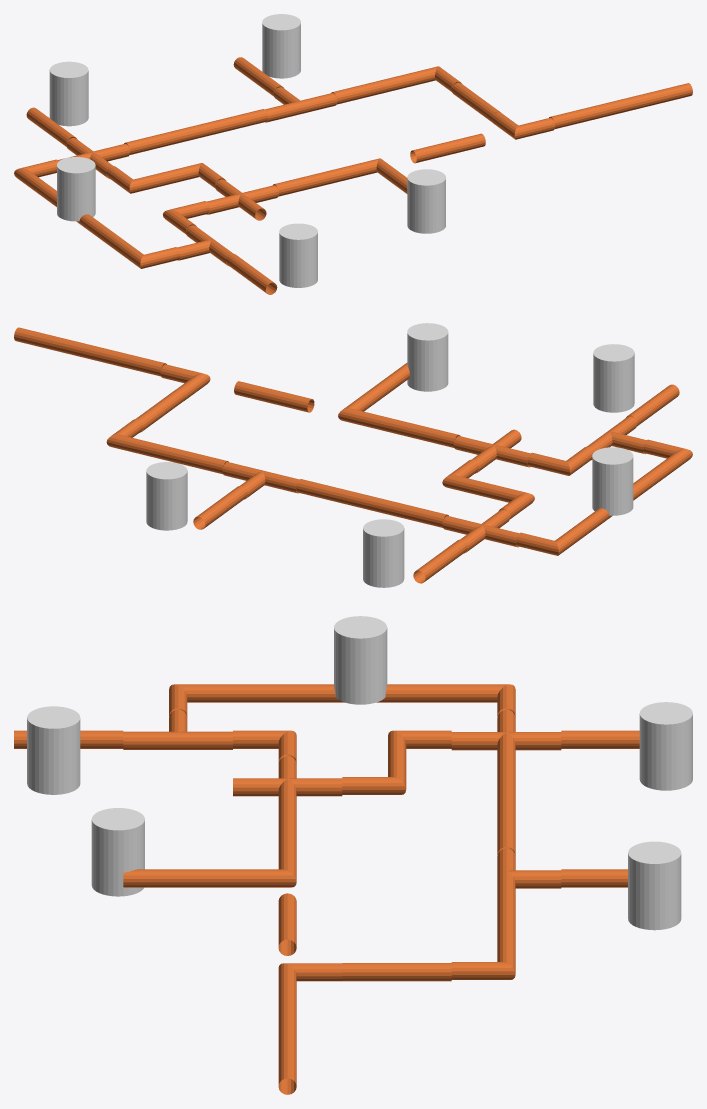
Rendered from Puzzle agua.fbx.
3 views of the same model, one above another, from view 1: azimuth 30°, elevation 25°; view 2: azimuth 150°, elevation 25°; view 3: azimuth 270°, elevation 25° (orthographic). The views are drawn at different scales.
Visible parts, largest first — view 1: WaterPilar.002, WaterPilar.001, WaterPilar.003, WaterPilar, WaterPilar.004, Cross Joint.003, Tee Joint.004, Elbow Joint.026, Cross Joint.004, Tee Joint.003, Elbow Joint.004, Elbow Joint.020 (+17 smaller); view 2: WaterPilar.003, WaterPilar.002, WaterPilar, WaterPilar.001, WaterPilar.004, Cross Joint.004, Cross Joint.003, Tee Joint.004, Elbow Joint.026, Elbow Joint.004, Elbow Joint.020, Elbow Joint.018 (+19 smaller); view 3: WaterPilar, WaterPilar.003, WaterPilar.002, WaterPilar.004, WaterPilar.001, Cross Joint.004, Cross Joint.003, Tee Joint.003, Elbow Joint.002, Elbow Joint.021, Elbow Joint.012, Tee Joint.004 (+19 smaller).
Boxes of the visible parts, x1=… form: WaterPilar.002: x1=49, y1=61, x2=88, y2=126; WaterPilar.001: x1=407, y1=169, x2=445, y2=233; WaterPilar.003: x1=279, y1=223, x2=317, y2=287; WaterPilar: x1=262, y1=14, x2=300, y2=78; WaterPilar.004: x1=57, y1=157, x2=95, y2=221; Cross Joint.003: x1=206, y1=179, x2=278, y2=220; Tee Joint.004: x1=265, y1=87, x2=336, y2=122; Elbow Joint.026: x1=410, y1=133, x2=485, y2=163; Cross Joint.004: x1=58, y1=138, x2=129, y2=178; Tee Joint.003: x1=177, y1=225, x2=232, y2=266; Elbow Joint.004: x1=549, y1=100, x2=623, y2=129; Elbow Joint.020: x1=273, y1=167, x2=347, y2=196; WaterPilar.003: x1=593, y1=344, x2=634, y2=412; WaterPilar.002: x1=363, y1=519, x2=404, y2=587; WaterPilar: x1=146, y1=462, x2=187, y2=530; WaterPilar.001: x1=407, y1=323, x2=448, y2=391; WaterPilar.004: x1=592, y1=447, x2=633, y2=515; Cross Joint.004: x1=442, y1=509, x2=519, y2=553; Cross Joint.003: x1=454, y1=429, x2=530, y2=473; Tee Joint.004: x1=222, y1=462, x2=299, y2=499; Elbow Joint.026: x1=234, y1=381, x2=314, y2=412; Elbow Joint.004: x1=87, y1=345, x2=166, y2=376; Elbow Joint.020: x1=380, y1=417, x2=460, y2=447; Elbow Joint.018: x1=369, y1=497, x2=448, y2=527; WaterPilar: x1=628, y1=841, x2=681, y2=930; WaterPilar.003: x1=27, y1=706, x2=80, y2=794; WaterPilar.002: x1=639, y1=702, x2=692, y2=790; WaterPilar.004: x1=334, y1=616, x2=387, y2=704; WaterPilar.001: x1=91, y1=808, x2=144, y2=896; Cross Joint.004: x1=451, y1=709, x2=561, y2=761; Cross Joint.003: x1=233, y1=756, x2=342, y2=807; Tee Joint.003: x1=123, y1=709, x2=232, y2=749; Elbow Joint.002: x1=342, y1=963, x2=451, y2=981; Elbow Joint.021: x1=123, y1=869, x2=232, y2=887; Elbow Joint.012: x1=233, y1=684, x2=342, y2=702; Tee Joint.004: x1=497, y1=848, x2=561, y2=900.
Bounding box in the file's own units: 2623 × 249 × 1861.
